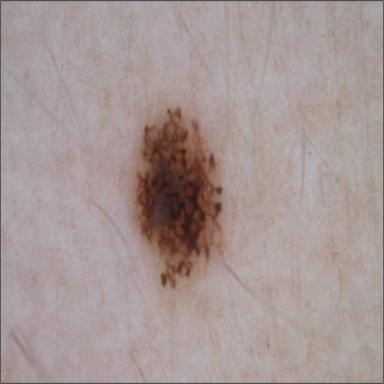nevus: (136, 108, 225, 288)
